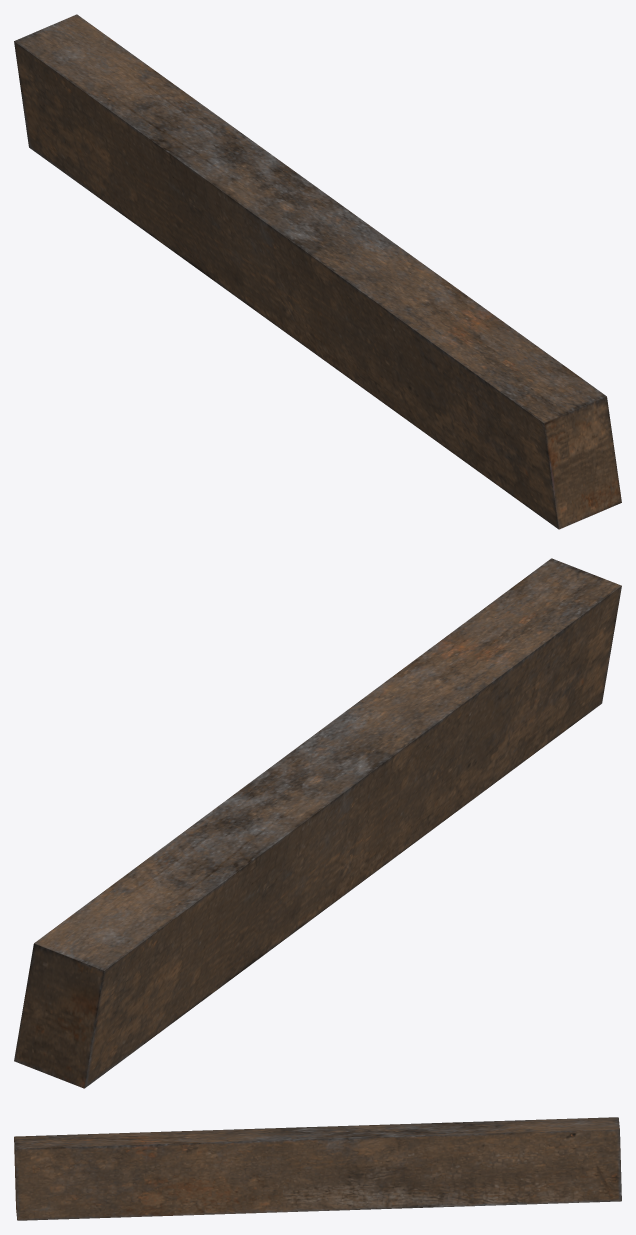
File: BoxWoodC.glb
3 renders of one model, top to bottom at view 1: azimuth 30°, elevation 25°; view 2: azimuth 150°, elevation 25°; view 3: azimuth 270°, elevation 25°, orthographic. The views are drawn at different scales.
Visible parts, largest first — view 1: BoxWoodC; view 2: BoxWoodC; view 3: BoxWoodC.
Boxes of the visible parts, x1,y1,x2,y2 form: BoxWoodC: [14, 14, 621, 529]; BoxWoodC: [14, 558, 621, 1088]; BoxWoodC: [14, 1117, 621, 1220].
Bounding box in the file's own units: 0.1688 × 0.2141 × 1.39.
Materials: 1 (1 with a texture image).
